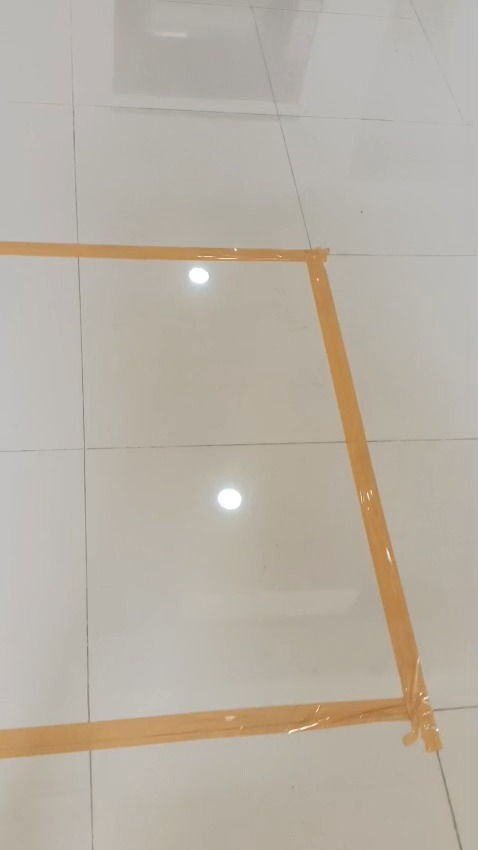floor marking: (0, 242, 439, 758)
